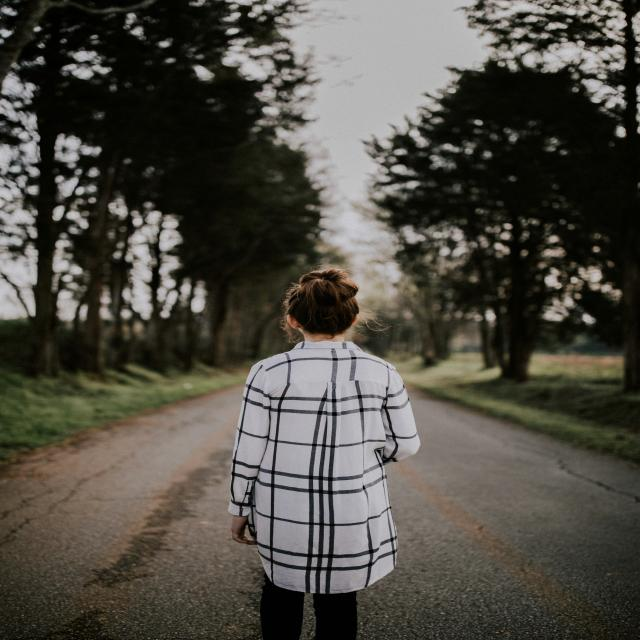adult: (229, 267, 418, 640)
